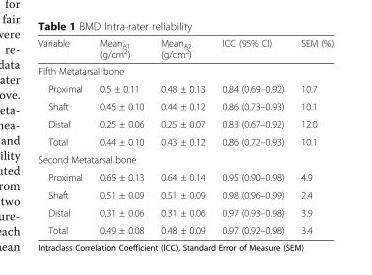table: (37, 37, 333, 235)
table column: (213, 37, 291, 235), (151, 37, 213, 235), (90, 37, 151, 235), (37, 37, 90, 235), (291, 37, 333, 235)
table column header: (37, 37, 333, 62)
table projected row header: (37, 150, 333, 168), (37, 62, 333, 79)
table row: (37, 37, 333, 62), (37, 79, 333, 97), (37, 114, 333, 132), (37, 132, 333, 150), (37, 150, 333, 168), (37, 185, 333, 203), (37, 203, 333, 221), (37, 62, 333, 79), (37, 97, 333, 114), (37, 168, 333, 185), (37, 221, 333, 235)
